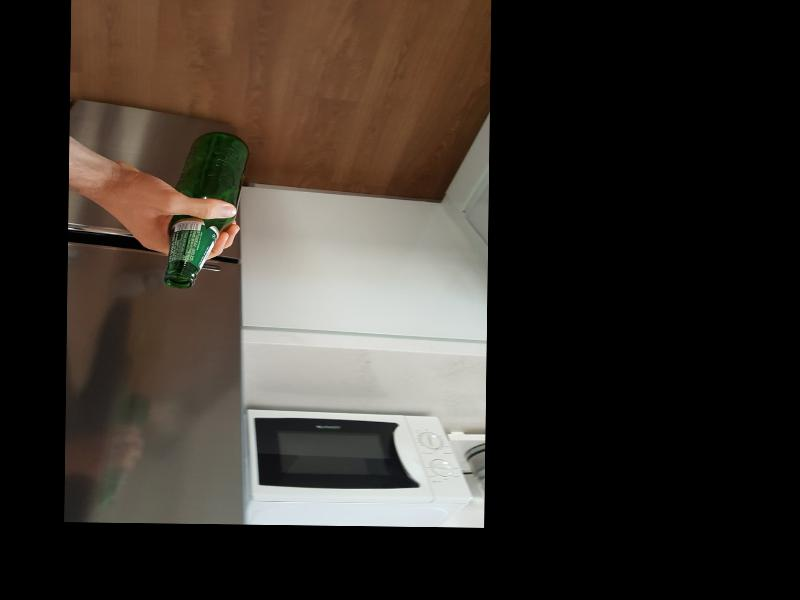Beer: (164, 130, 247, 289)
